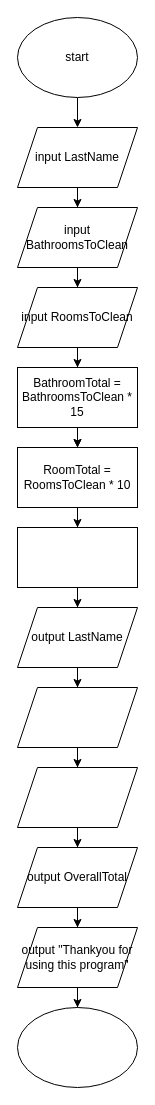
Image size: 155x1105. Some labels were removed from this diagram. Each missing label, with the centre of its shape:
"output BathroomsToClean + BathroomTotal" goes at (77,717).
"output RoomsToClean + RoomsTotal" goes at (77,797).
"OverallTotal = BathroomTotal + RoomTotal + 40" goes at (77,557).
"stop" goes at (77,1047).
